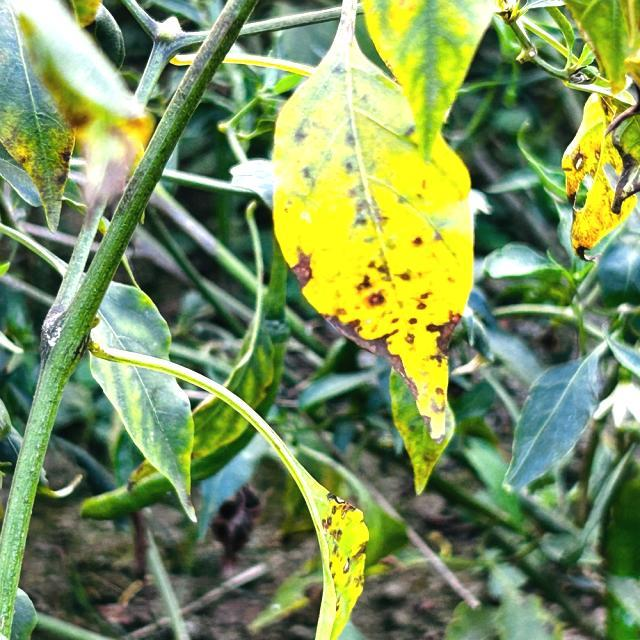Bercak Daun Serkospora: (271, 1, 477, 443)
